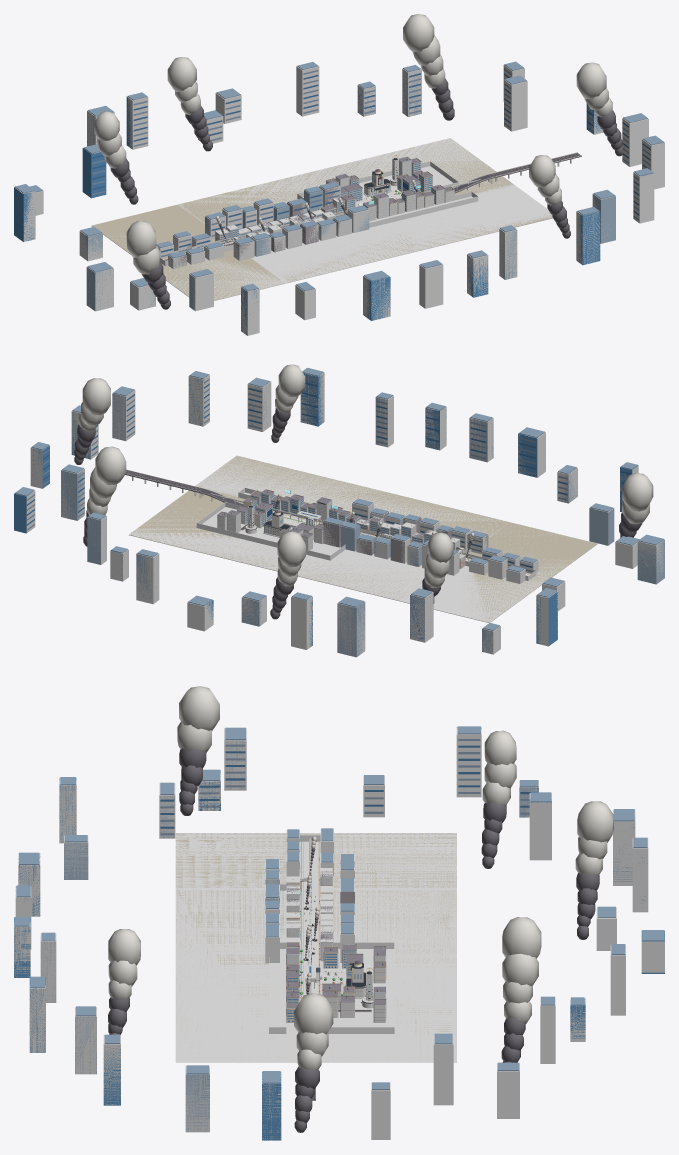
The model's file is m2_monorail.glb.
3 renders of one model, top to bottom at view 1: azimuth 30°, elevation 25°; view 2: azimuth 150°, elevation 25°; view 3: azimuth 270°, elevation 25°, orthographic. The views are drawn at different scales.
Parts seen in each view (by area): view 1: COL_far_659_c1, far_pave_d_fine, far_smoke_l_fine, far_glass_t_far, far_far_d_far, far_far_far, far_smoke_d_fine, COL_far_659_c0, far_far_d_fine, far_glass_d_fine, far_concrete_d_far, COL_far_632 (+22 smaller); view 2: far_pave_d_fine, COL_far_659_c1, far_far_far, far_smoke_l_fine, far_far_d_far, far_glass_t_far, COL_far_659_c0, far_smoke_d_fine, far_far_d_fine, far_glass_d_fine, COL_far_640, far_concrete_d_far (+24 smaller); view 3: COL_far_659_c1, far_smoke_l_fine, far_pave_d_fine, COL_far_659_c0, far_far_d_far, far_smoke_d_fine, far_glass_t_far, far_far_far, COL_far_643, COL_far_641, COL_far_640, COL_far_632 (+21 smaller).
Part boxes in pixels (x1,y1,x2,y2): COL_far_659_c1: (183,138,552,282); far_pave_d_fine: (92,138,552,300); far_smoke_l_fine: (94,14,612,274); far_glass_t_far: (14,65,653,335); far_far_d_far: (15,61,663,291); far_far_far: (79,69,664,310); far_smoke_d_fine: (110,78,622,309); COL_far_659_c0: (92,226,284,300); far_far_d_fine: (92,68,650,257); far_glass_d_fine: (92,73,650,252); far_concrete_d_far: (174,187,351,267); COL_far_632: (504,79,527,131); far_pave_d_fine: (131,455,597,622); COL_far_659_c1: (129,456,505,600); far_far_far: (61,384,664,657); far_smoke_l_fine: (78,364,653,587); far_far_d_far: (15,367,663,630); far_glass_t_far: (14,373,638,646); COL_far_659_c0: (403,526,595,622); far_smoke_d_fine: (74,408,642,619); far_far_d_fine: (27,377,627,572); far_glass_d_fine: (27,382,630,567); COL_far_640: (337,601,365,656); far_concrete_d_far: (323,511,525,567); COL_far_659_c1: (175,890,456,1062); far_smoke_l_fine: (108,686,613,1070); far_pave_d_fine: (175,833,456,1062); COL_far_659_c0: (175,833,456,887); far_far_d_far: (14,726,664,1089); far_smoke_d_fine: (108,748,599,1132); far_glass_t_far: (14,727,664,1140); far_far_far: (15,728,635,1132); COL_far_643: (456,727,481,797); COL_far_641: (529,793,551,860); COL_far_640: (613,809,635,885); COL_far_632: (433,1034,453,1105).
Size of the model in its own units: 823 by 158 by 625.
